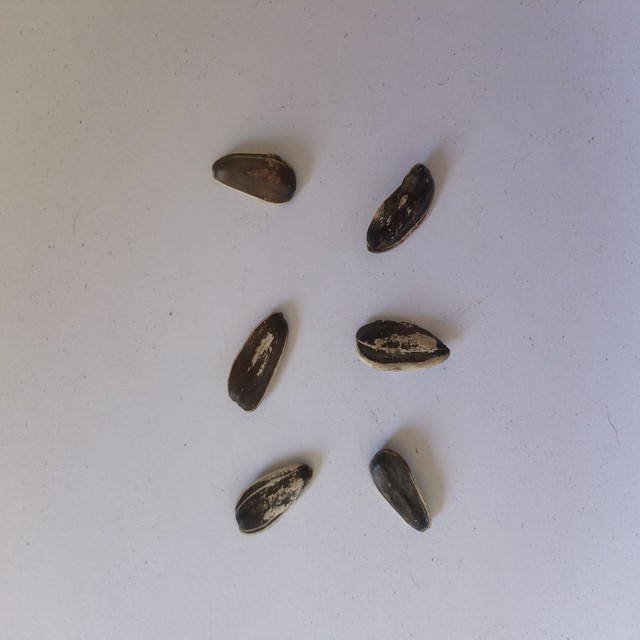girasol: (359, 158, 440, 260), (222, 307, 296, 417), (230, 456, 320, 539), (363, 444, 435, 539), (353, 314, 457, 374), (204, 147, 298, 207)
